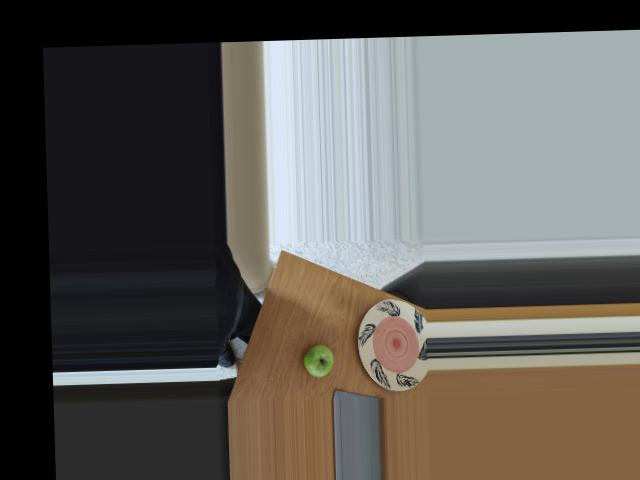apple: (296, 339, 335, 377)
